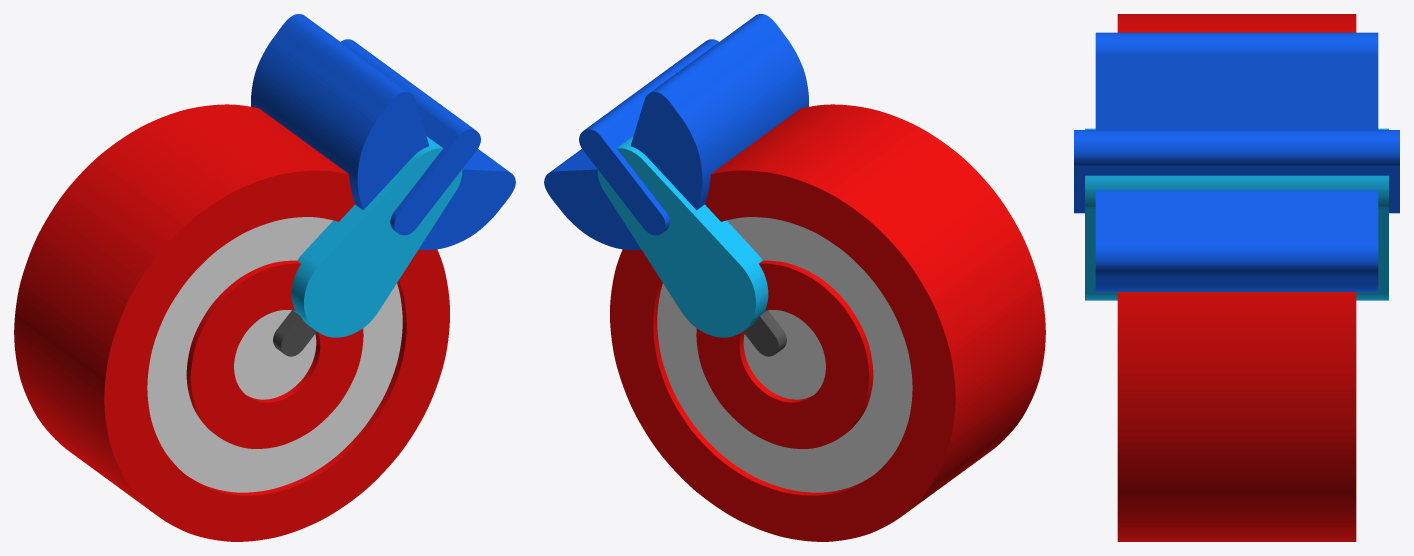
3 renders of one model, left to right at view 1: azimuth 30°, elevation 25°; view 2: azimuth 150°, elevation 25°; view 3: azimuth 270°, elevation 25°, orthographic. The views are drawn at different scales.
Parts seen in each view (by area): view 1: U+1F3AF_layer01_obj00, U+1F3AF_layer00_obj00, U+1F3AF_layer03_obj00, U+1F3AF_layer04_obj00, U+1F3AF_layer05_obj00, U+1F3AF_layer02_obj00; view 2: U+1F3AF_layer01_obj00, U+1F3AF_layer00_obj00, U+1F3AF_layer03_obj00, U+1F3AF_layer04_obj00, U+1F3AF_layer05_obj00, U+1F3AF_layer02_obj00; view 3: U+1F3AF_layer01_obj00, U+1F3AF_layer03_obj00, U+1F3AF_layer05_obj00, U+1F3AF_layer04_obj00.
Boxes of the visible parts, x1,y1,x2,y2 form: U+1F3AF_layer01_obj00: [14, 104, 449, 541]; U+1F3AF_layer00_obj00: [147, 217, 402, 492]; U+1F3AF_layer03_obj00: [251, 14, 515, 250]; U+1F3AF_layer04_obj00: [291, 136, 462, 337]; U+1F3AF_layer05_obj00: [341, 39, 480, 235]; U+1F3AF_layer02_obj00: [273, 310, 316, 356]; U+1F3AF_layer01_obj00: [610, 104, 1045, 541]; U+1F3AF_layer00_obj00: [657, 217, 912, 492]; U+1F3AF_layer03_obj00: [544, 14, 808, 250]; U+1F3AF_layer04_obj00: [597, 136, 768, 337]; U+1F3AF_layer05_obj00: [579, 39, 718, 235]; U+1F3AF_layer02_obj00: [743, 310, 786, 356]; U+1F3AF_layer01_obj00: [1117, 14, 1356, 541]; U+1F3AF_layer03_obj00: [1095, 32, 1378, 291]; U+1F3AF_layer05_obj00: [1074, 130, 1399, 213]; U+1F3AF_layer04_obj00: [1085, 128, 1388, 300].
Size of the model in its own units: 0.5678 by 0.568 by 0.3.
